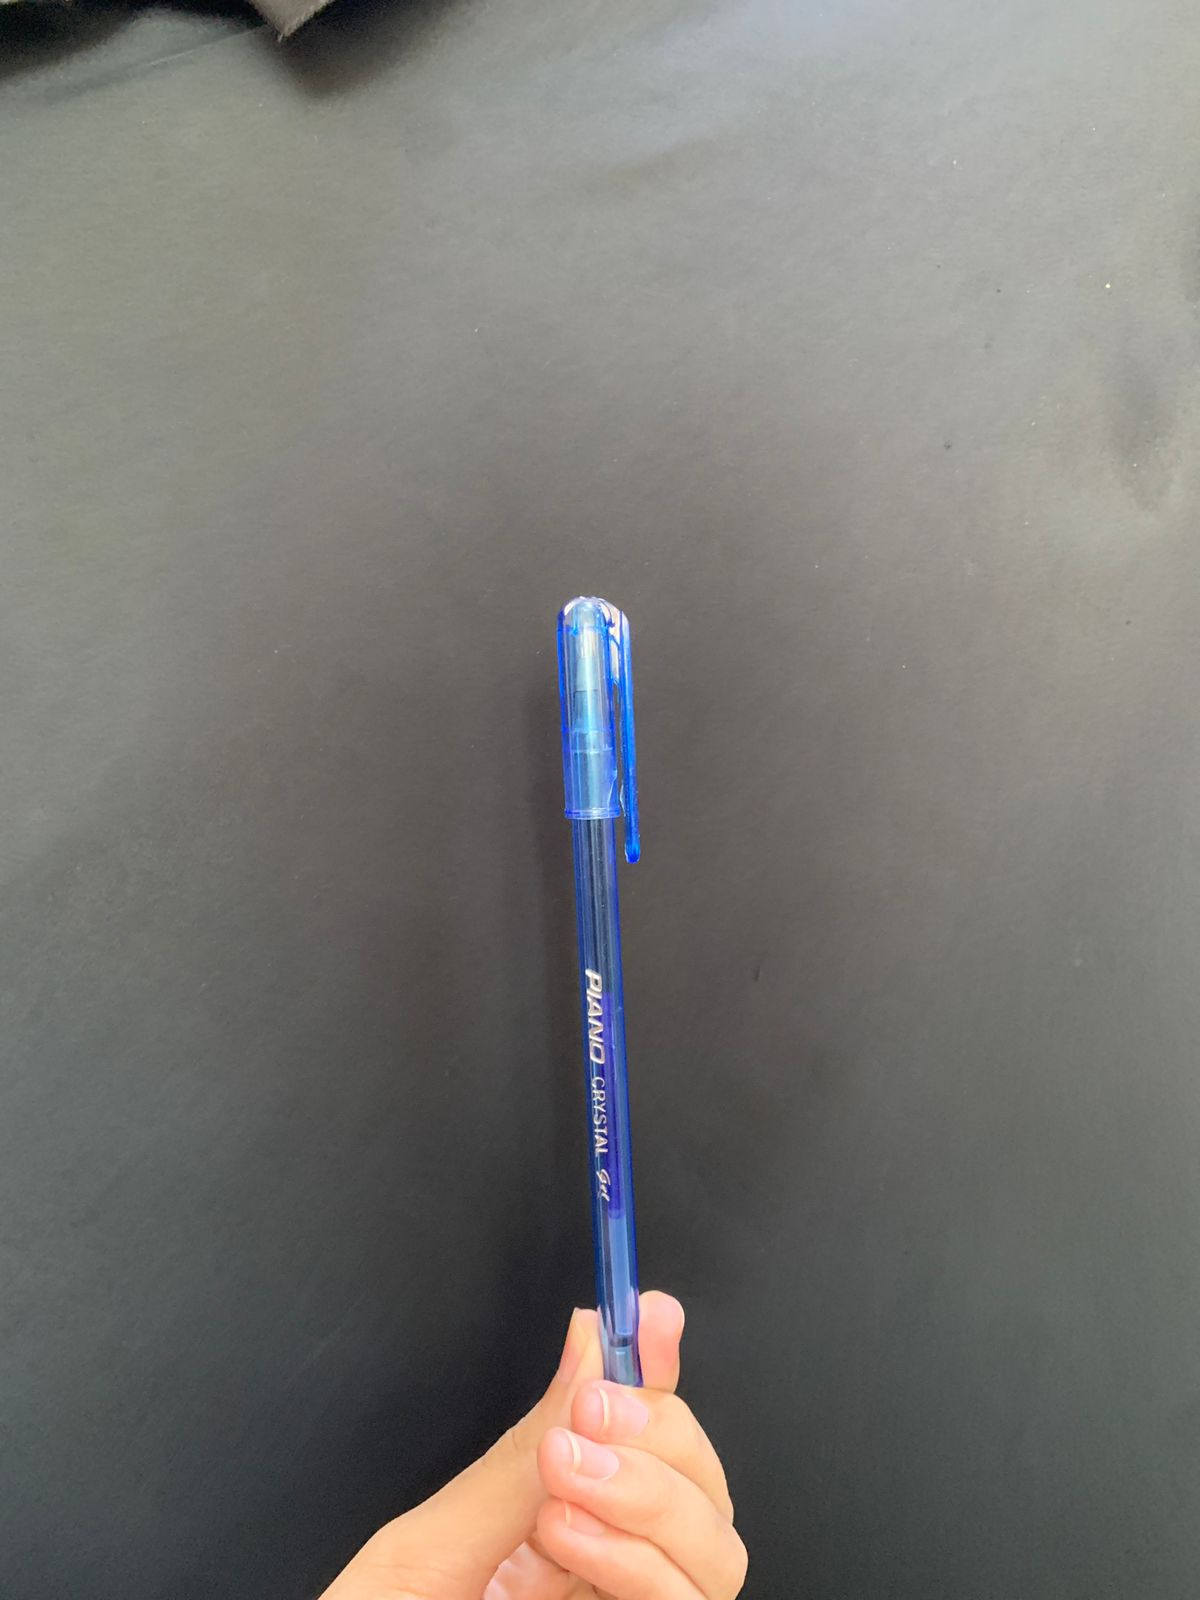pen: (405, 535, 870, 1474)
